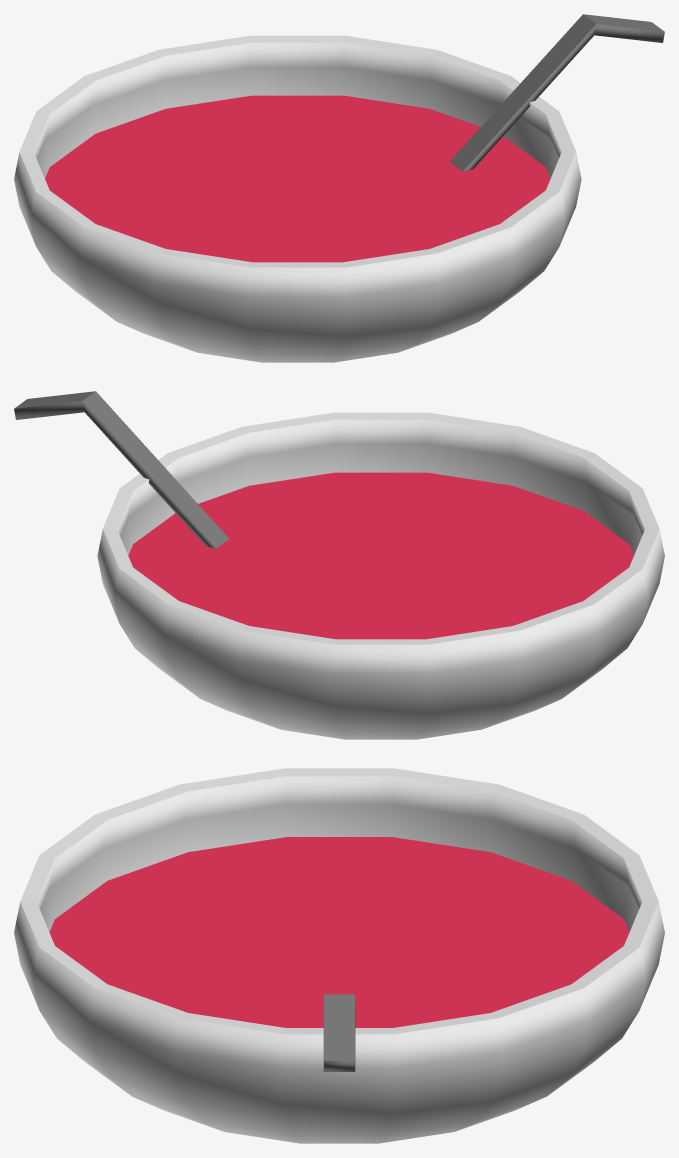
Rendered from Punchbowl.fbx.
3 views of the same model, one above another, from view 1: azimuth 30°, elevation 25°; view 2: azimuth 150°, elevation 25°; view 3: azimuth 270°, elevation 25° (orthographic). The views are drawn at different scales.
Visible parts, largest first — view 1: PunchBowl.001, Ladel; view 2: PunchBowl.001, Ladel; view 3: PunchBowl.001, Ladel.
Part boxes in pixels (x1=…): PunchBowl.001: x1=14, y1=35, x2=581, y2=362; Ladel: x1=449, y1=14, x2=664, y2=171; PunchBowl.001: x1=97, y1=412, x2=664, y2=739; Ladel: x1=14, y1=391, x2=229, y2=548; PunchBowl.001: x1=14, y1=768, x2=664, y2=1143; Ladel: x1=323, y1=994, x2=355, y2=1071.
Bounding box in the file's own units: 98.06 × 35.83 × 80.
